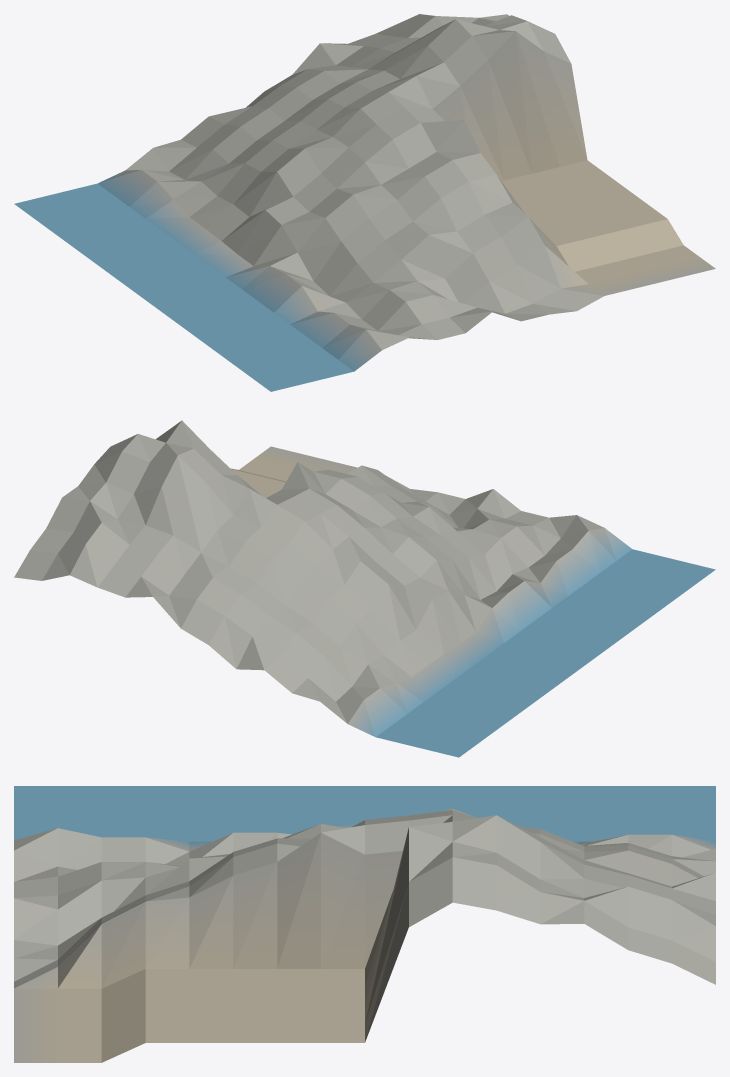
3 renders of one model, top to bottom at view 1: azimuth 30°, elevation 25°; view 2: azimuth 150°, elevation 25°; view 3: azimuth 270°, elevation 25°, orthographic. The views are drawn at different scales.
Size of the model in its own units: 32 by 10.99 by 32.
